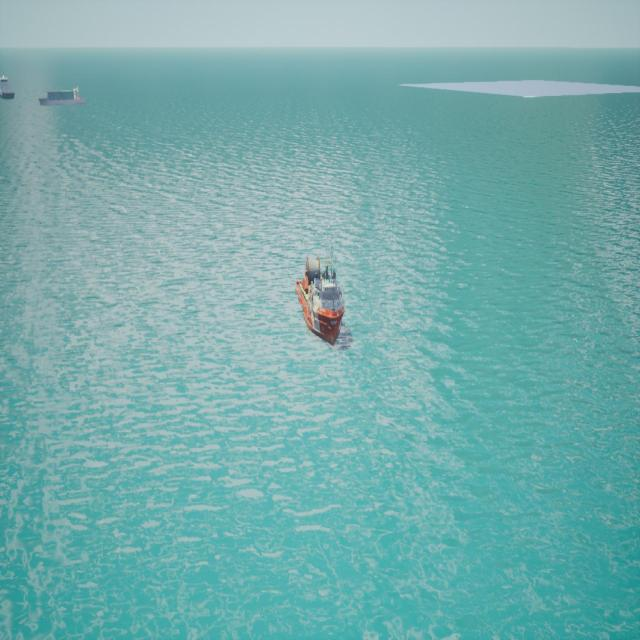tug boat: (297, 259, 346, 349)
